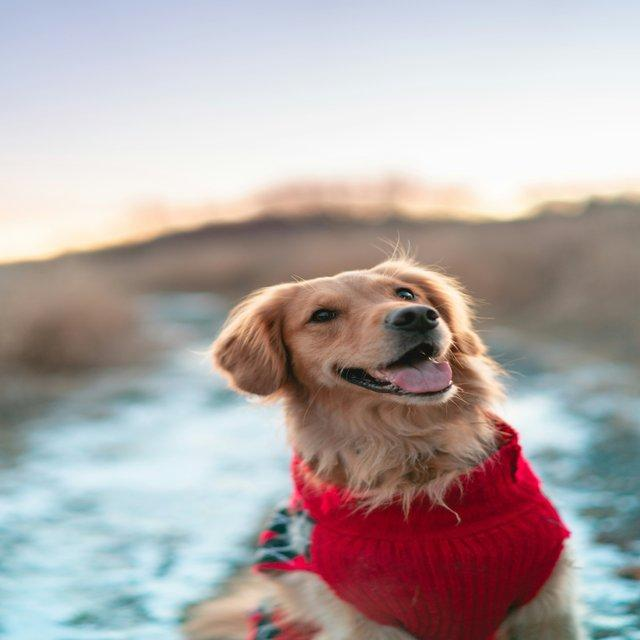retriever: (178, 238, 585, 639)
